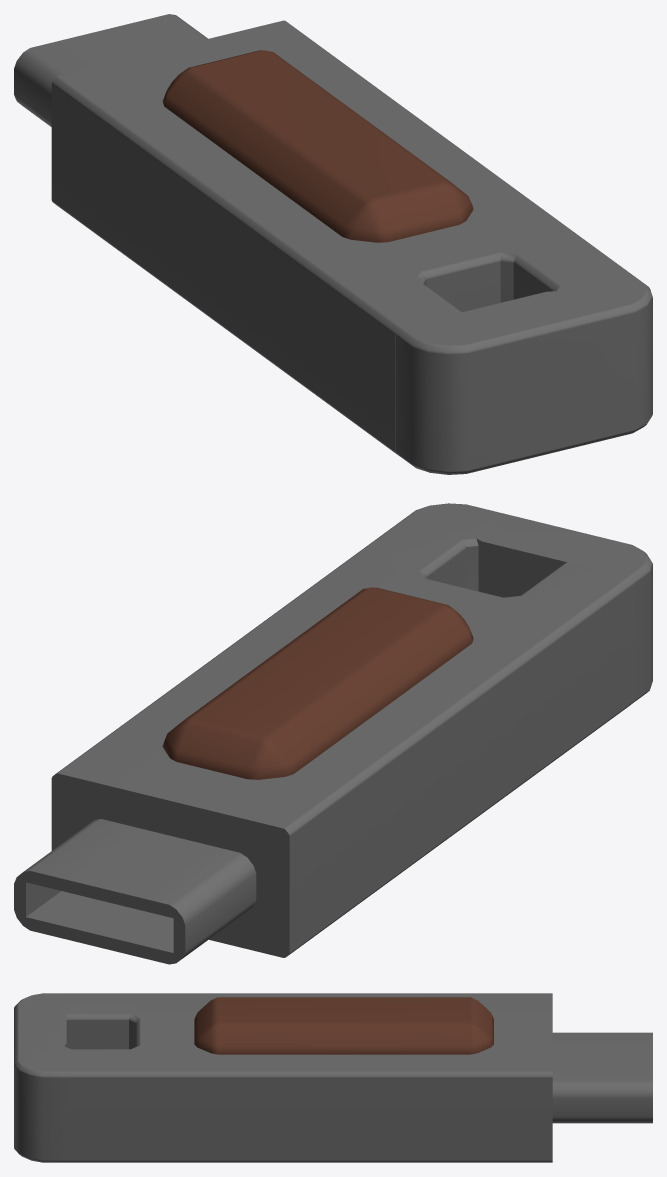
File: USB.fbx
3 views of the same model, one above another, from view 1: azimuth 30°, elevation 25°; view 2: azimuth 150°, elevation 25°; view 3: azimuth 270°, elevation 25° (orthographic). The views are drawn at different scales.
Visible parts, largest first — view 1: pCube1, pCube2; view 2: pCube1, pCube2; view 3: pCube1, pCube2.
Boxes of the visible parts, bbox=[...] form: pCube1: bbox=[14, 14, 652, 474]; pCube2: bbox=[162, 50, 473, 242]; pCube1: bbox=[14, 503, 652, 964]; pCube2: bbox=[162, 587, 473, 779]; pCube1: bbox=[14, 993, 652, 1162]; pCube2: bbox=[194, 997, 493, 1054].
Bounding box in the file's own units: 1 × 0.7192 × 3.29.
